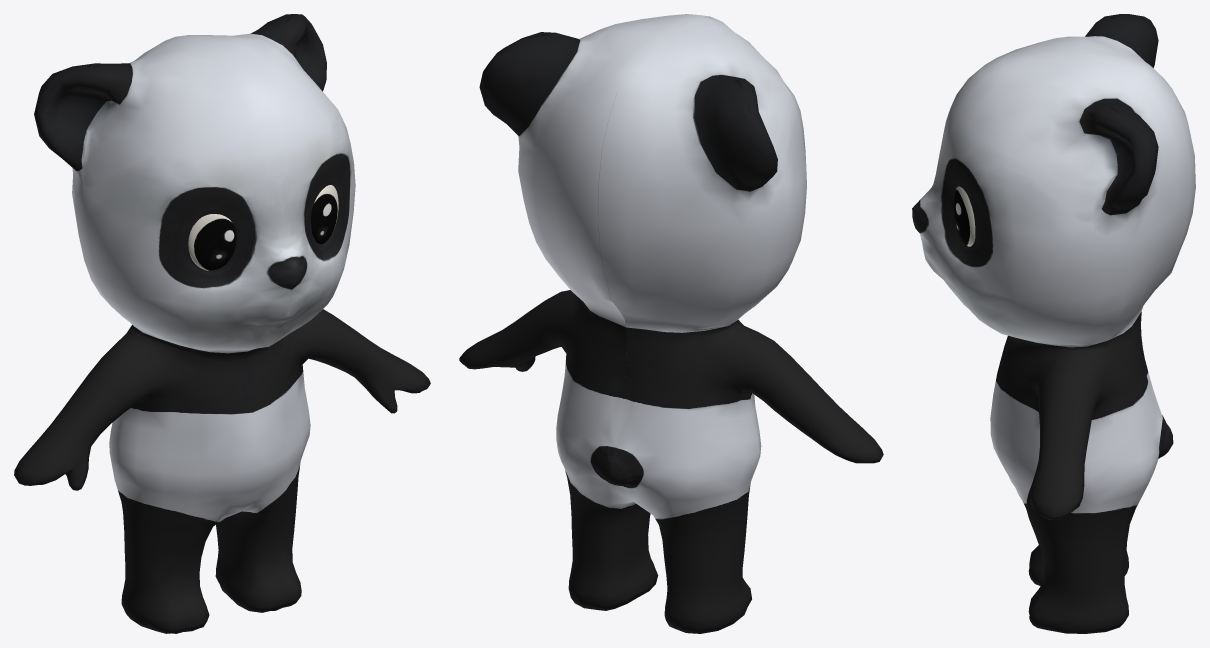
Rendered from panda.glb.
The picture shows the model from 3 angles, left to right: view 1: azimuth 30°, elevation 25°; view 2: azimuth 150°, elevation 25°; view 3: azimuth 270°, elevation 25°; orthographic projection. The views are drawn at different scales.
Visible parts, largest first — view 1: Sphere003; view 2: Sphere003; view 3: Sphere003.
Boxes of the visible parts, x1,y1,x2,y2 form: Sphere003: [14, 14, 430, 633]; Sphere003: [459, 14, 883, 633]; Sphere003: [912, 14, 1195, 633].
Size of the model in its own units: 65.14 by 84.53 by 39.76.
Materials: 5 (5 with a texture image).
